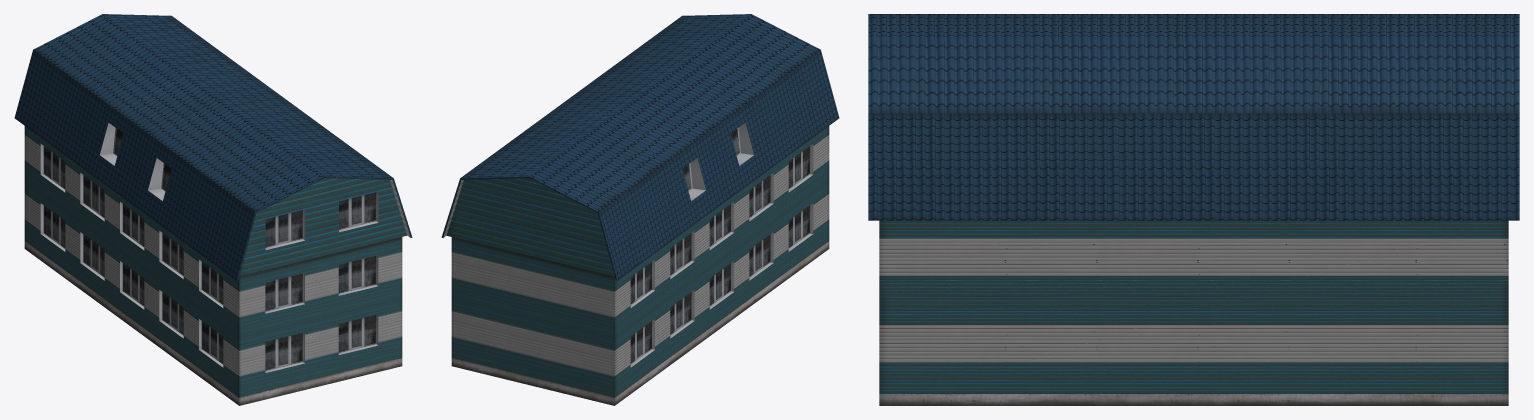
File: r402_ishim_dom12.FBX
3 views of the same model, side by side, from view 1: azimuth 30°, elevation 25°; view 2: azimuth 150°, elevation 25°; view 3: azimuth 270°, elevation 25° (orthographic). The views are drawn at different scales.
Visible parts, largest first — view 1: r402_ishim_dom12; view 2: r402_ishim_dom12; view 3: r402_ishim_dom12.
Boxes of the visible parts, left/top/right/bottom form: r402_ishim_dom12: left=14, top=14, right=412, bottom=405; r402_ishim_dom12: left=441, top=14, right=839, bottom=405; r402_ishim_dom12: left=868, top=14, right=1519, bottom=405.
Size of the model in its own units: 9.26 by 20.24 by 10.68.
